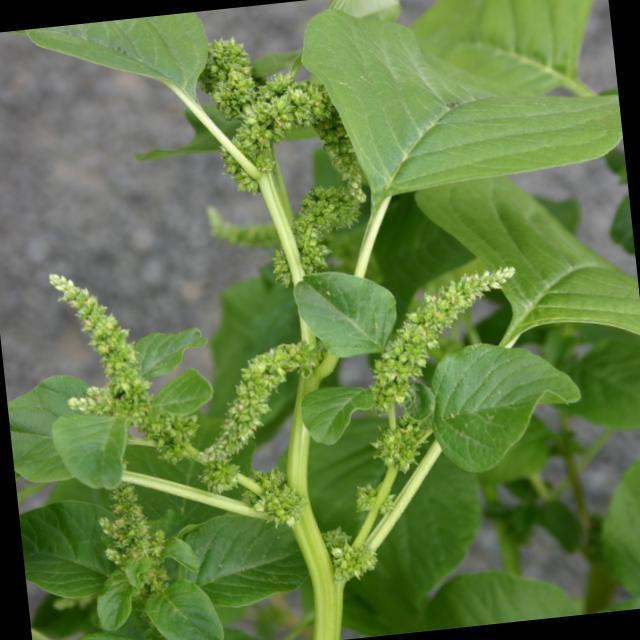Medicinal-Arive Dantu: (11, 219, 592, 640), (39, 0, 634, 307)
